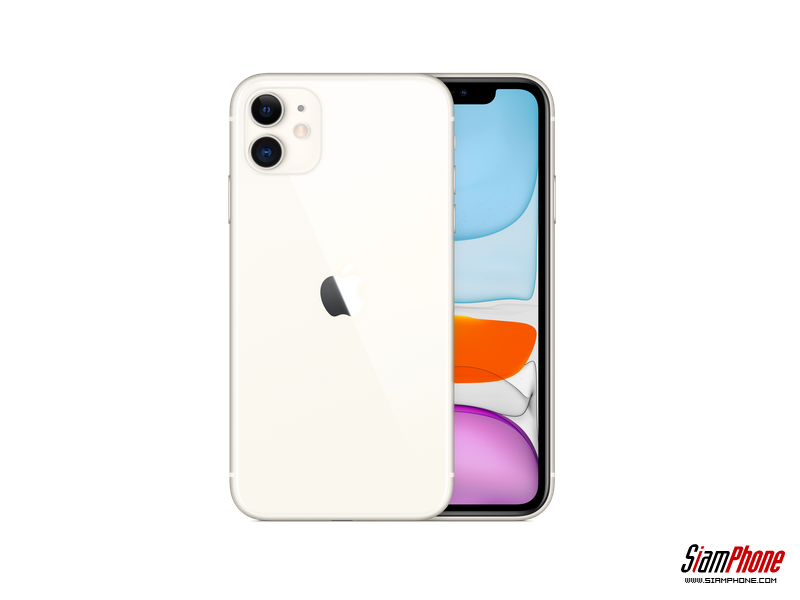phone: (223, 66, 460, 527), (428, 71, 559, 524)
